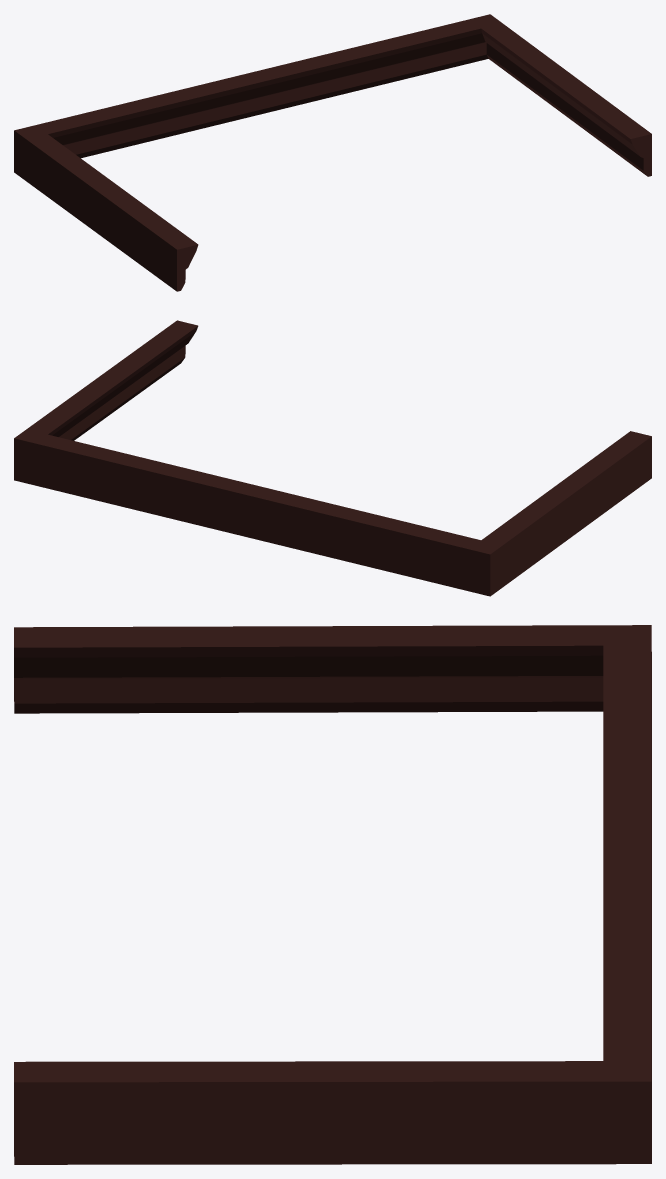
File: moulding.FBX
3 renders of one model, top to bottom at view 1: azimuth 30°, elevation 25°; view 2: azimuth 150°, elevation 25°; view 3: azimuth 270°, elevation 25°, orthographic. The views are drawn at different scales.
Parts seen in each view (by area): view 1: moulding; view 2: moulding; view 3: moulding.
Part boxes in pixels (x1,y1,x2,y2): moulding: (14,14,651,291); moulding: (14,320,651,596); moulding: (14,625,651,1164).
Size of the model in its own units: 2372 by 204 by 1401.
